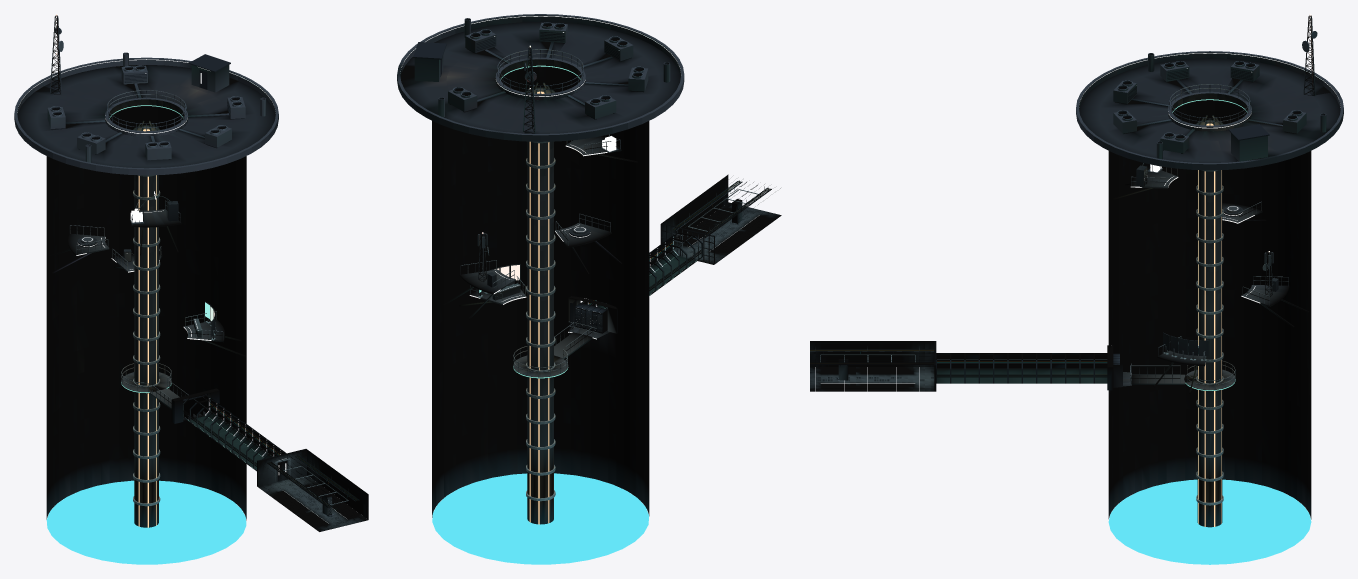
The model's file is world.glb.
The picture shows the model from 3 angles, left to right: view 1: azimuth 30°, elevation 25°; view 2: azimuth 150°, elevation 25°; view 3: azimuth 270°, elevation 25°; orthographic projection. The views are drawn at different scales.
Parts seen in each view (by area): view 1: CoreShell, Roof, CoreSpineGlow, CoreSpine, Tunnel, Room, Floor, CorePlatforms, Exhibits; view 2: CoreShell, Roof, CoreSpineGlow, CoreSpine, CorePlatforms, Floor, Room, Tunnel, Exhibits, CoreRackSector, ExhibitGlow; view 3: CoreShell, Roof, CoreSpineGlow, CoreSpine, Tunnel, Room, Floor, CorePlatforms, Exhibits.
Boxes of the visible parts, x1,y1,x2,y2 form: CoreShell: (46,99,246,520); Roof: (14,15,278,175); CoreSpineGlow: (46,105,246,564); CoreSpine: (121,120,188,527); Tunnel: (171,388,286,471); Room: (257,449,368,519); Floor: (257,475,367,531); CorePlatforms: (47,200,246,357); Exhibits: (77,195,216,340); CoreShell: (432,59,649,517); Roof: (397,14,684,141); CoreSpineGlow: (432,65,649,564); CoreSpine: (513,82,592,524); CorePlatforms: (443,136,637,319); Floor: (673,202,781,264); Room: (660,174,780,264); Tunnel: (568,232,702,333); Exhibits: (477,134,618,300); CoreRackSector: (575,303,607,333); ExhibitGlow: (479,136,616,292); CoreShell: (1108,93,1311,519); Roof: (1076,15,1343,170); CoreSpineGlow: (1108,99,1311,564); CoreSpine: (1131,115,1235,527); Tunnel: (936,345,1113,390); Room: (810,341,936,391); Floor: (810,367,935,391); CorePlatforms: (1111,164,1308,393); Exhibits: (1136,163,1278,360).
Bounding box in the file's own units: 28 × 56.29 × 55.8.
